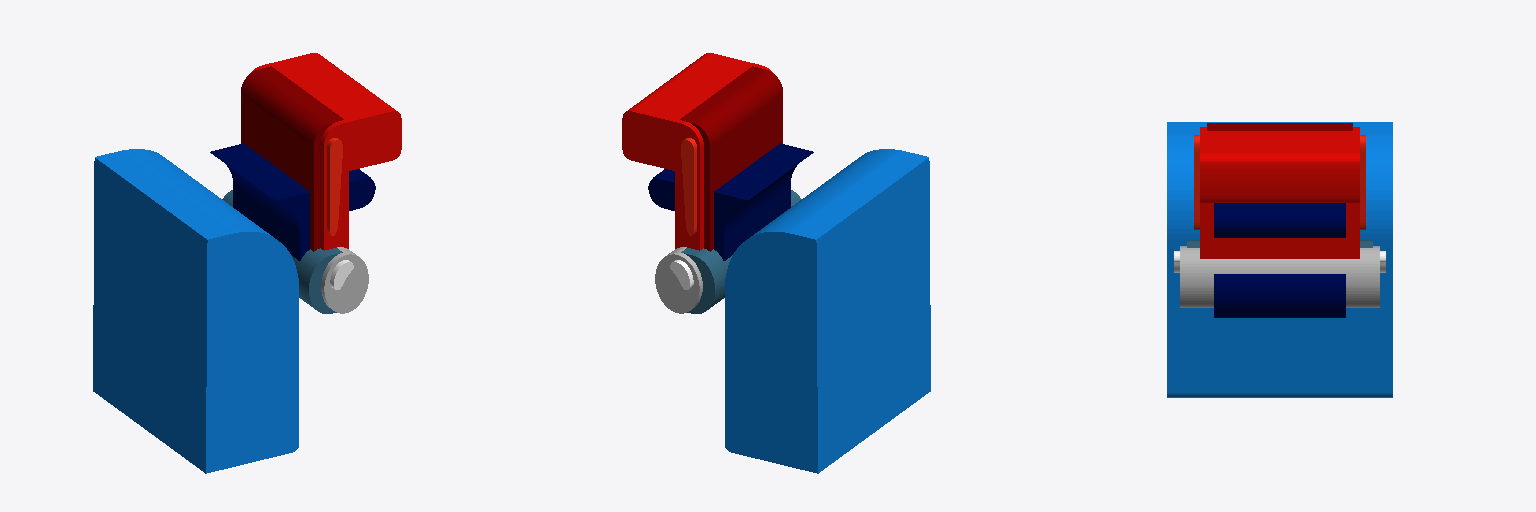
The picture shows the model from 3 angles: view 1: azimuth 30°, elevation 25°; view 2: azimuth 150°, elevation 25°; view 3: azimuth 270°, elevation 25°; orthographic projection.
Visible parts, largest first — view 1: U+1F4EB_layer07_obj00, U+1F4EB_layer02_obj00, U+1F4EB_layer01_obj00, U+1F4EB_layer00_obj00, U+1F4EB_layer05_obj00, U+1F4EB_layer04_obj00, U+1F4EB_layer03_obj00; view 2: U+1F4EB_layer07_obj00, U+1F4EB_layer02_obj00, U+1F4EB_layer01_obj00, U+1F4EB_layer00_obj00, U+1F4EB_layer05_obj00, U+1F4EB_layer04_obj00, U+1F4EB_layer03_obj00; view 3: U+1F4EB_layer07_obj00, U+1F4EB_layer02_obj00, U+1F4EB_layer00_obj01, U+1F4EB_layer05_obj00, U+1F4EB_layer00_obj00, U+1F4EB_layer01_obj00, U+1F4EB_layer03_obj00.
Part boxes in pixels (x1,y1,x2,y2): U+1F4EB_layer07_obj00: (93,149,298,473); U+1F4EB_layer02_obj00: (250,53,401,250); U+1F4EB_layer01_obj00: (241,66,343,251); U+1F4EB_layer00_obj00: (210,143,375,260); U+1F4EB_layer05_obj00: (321,247,368,313); U+1F4EB_layer04_obj00: (222,190,342,313); U+1F4EB_layer03_obj00: (327,138,342,235); U+1F4EB_layer07_obj00: (725,149,930,473); U+1F4EB_layer02_obj00: (622,53,773,250); U+1F4EB_layer01_obj00: (680,66,782,251); U+1F4EB_layer00_obj00: (648,143,813,260); U+1F4EB_layer05_obj00: (655,247,702,313); U+1F4EB_layer04_obj00: (681,190,801,313); U+1F4EB_layer03_obj00: (681,138,696,235); U+1F4EB_layer07_obj00: (1167,122,1392,397); U+1F4EB_layer02_obj00: (1200,127,1359,258); U+1F4EB_layer00_obj01: (1214,274,1345,317); U+1F4EB_layer05_obj00: (1180,246,1379,307); U+1F4EB_layer00_obj00: (1214,203,1345,237); U+1F4EB_layer01_obj00: (1207,123,1352,130); U+1F4EB_layer03_obj00: (1194,135,1365,229).
Size of the model in its own units: 0.1852 by 0.2497 by 0.17.